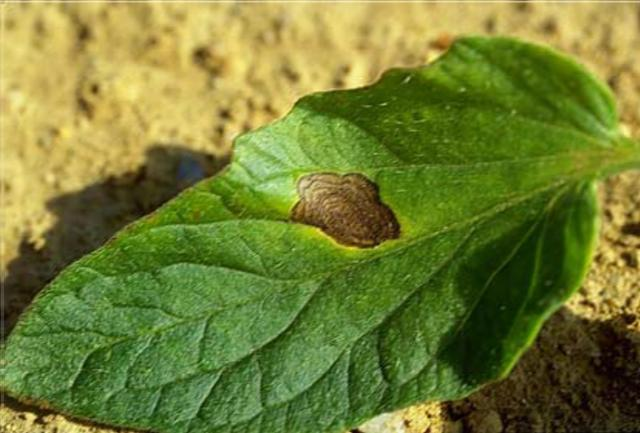Tomato Early blight leaf: (5, 28, 618, 425)
